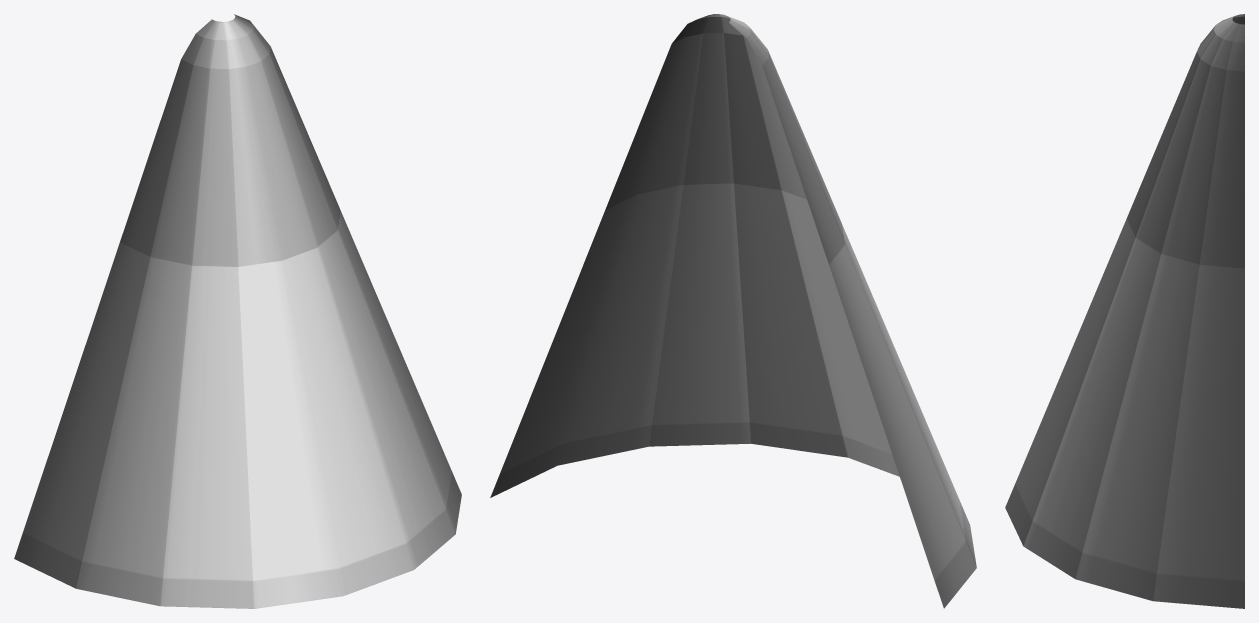
The picture shows the model from 3 angles, left to right: view 1: azimuth 30°, elevation 25°; view 2: azimuth 150°, elevation 25°; view 3: azimuth 270°, elevation 25°; orthographic projection. The views are drawn at different scales.
Parts seen in each view (by area): view 1: Cylinder; view 2: Cylinder; view 3: Cylinder.
Part boxes in pixels (bbox=[...]): Cylinder: bbox=[14, 14, 461, 608]; Cylinder: bbox=[490, 14, 976, 608]; Cylinder: bbox=[1005, 14, 1244, 608].
Size of the model in its own units: 1 by 1.12 by 0.5.
Materials: 1 (1 with a texture image).
